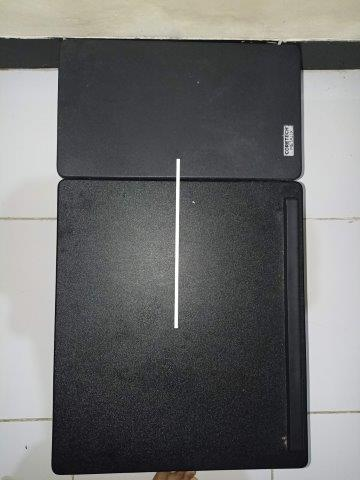sedotan: (173, 159, 180, 328)
